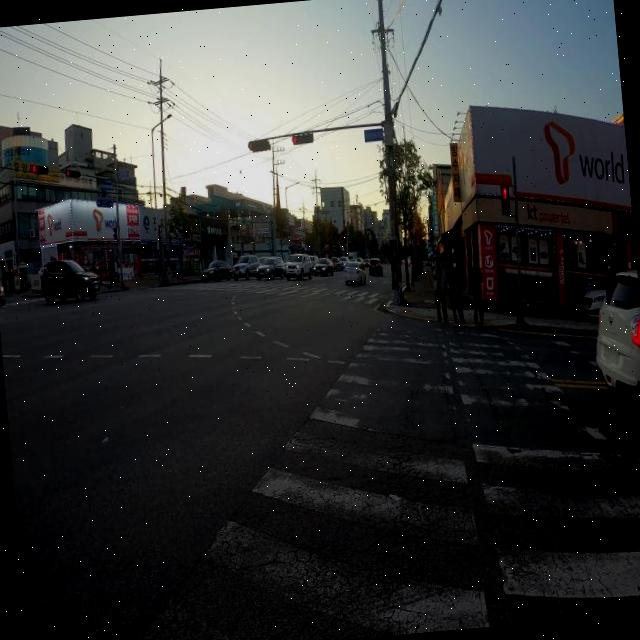crosswalk: (138, 311, 640, 640), (156, 280, 388, 306)
